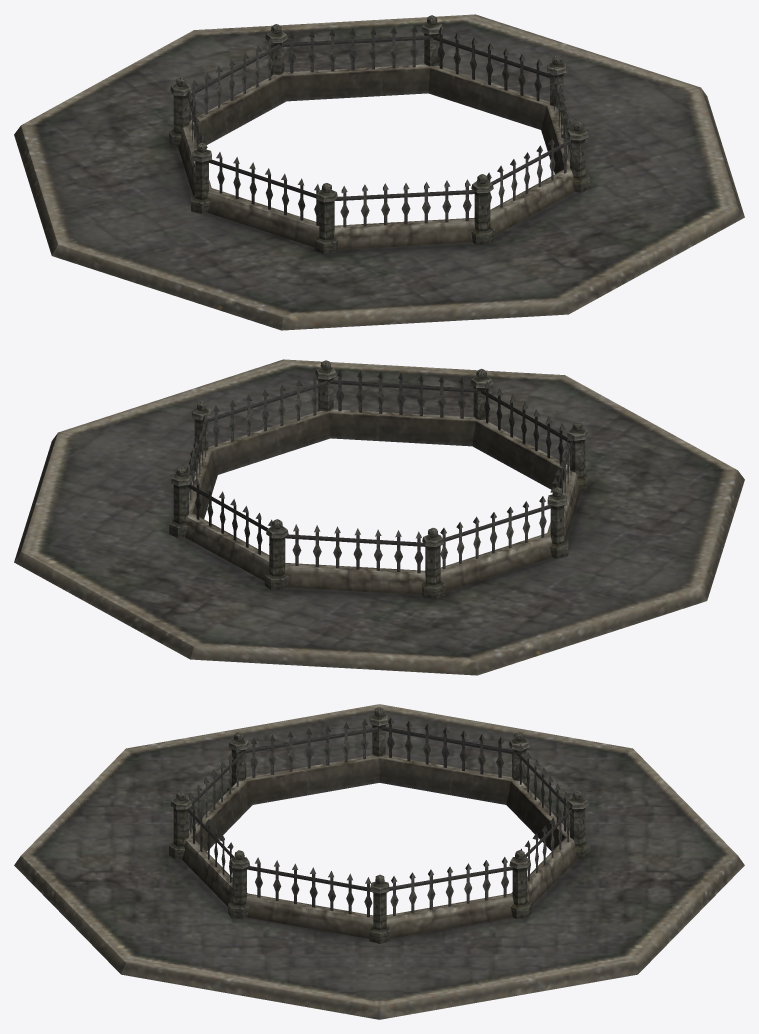
File: SM_EN_2005_gongyuan01.FBX
3 views of the same model, one above another, from view 1: azimuth 30°, elevation 25°; view 2: azimuth 150°, elevation 25°; view 3: azimuth 270°, elevation 25° (orthographic). The views are drawn at different scales.
Parts seen in each view (by area): view 1: SM_EN_2005_gongyuan01; view 2: SM_EN_2005_gongyuan01; view 3: SM_EN_2005_gongyuan01.
Part boxes in pixels (x1,y1,x2,y2): SM_EN_2005_gongyuan01: [14, 14, 744, 330]; SM_EN_2005_gongyuan01: [14, 359, 744, 675]; SM_EN_2005_gongyuan01: [14, 704, 744, 1019].
Bounding box in the file's own units: 152 × 17.13 × 152.
